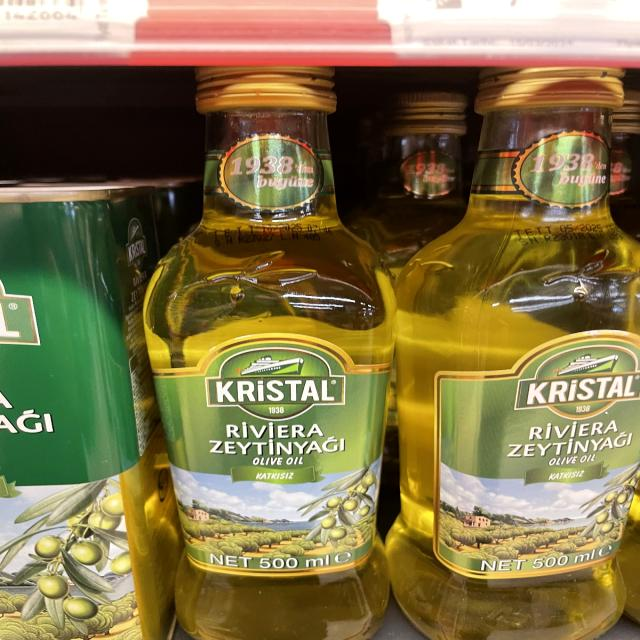olive oil: (143, 65, 392, 640), (397, 68, 640, 640)
